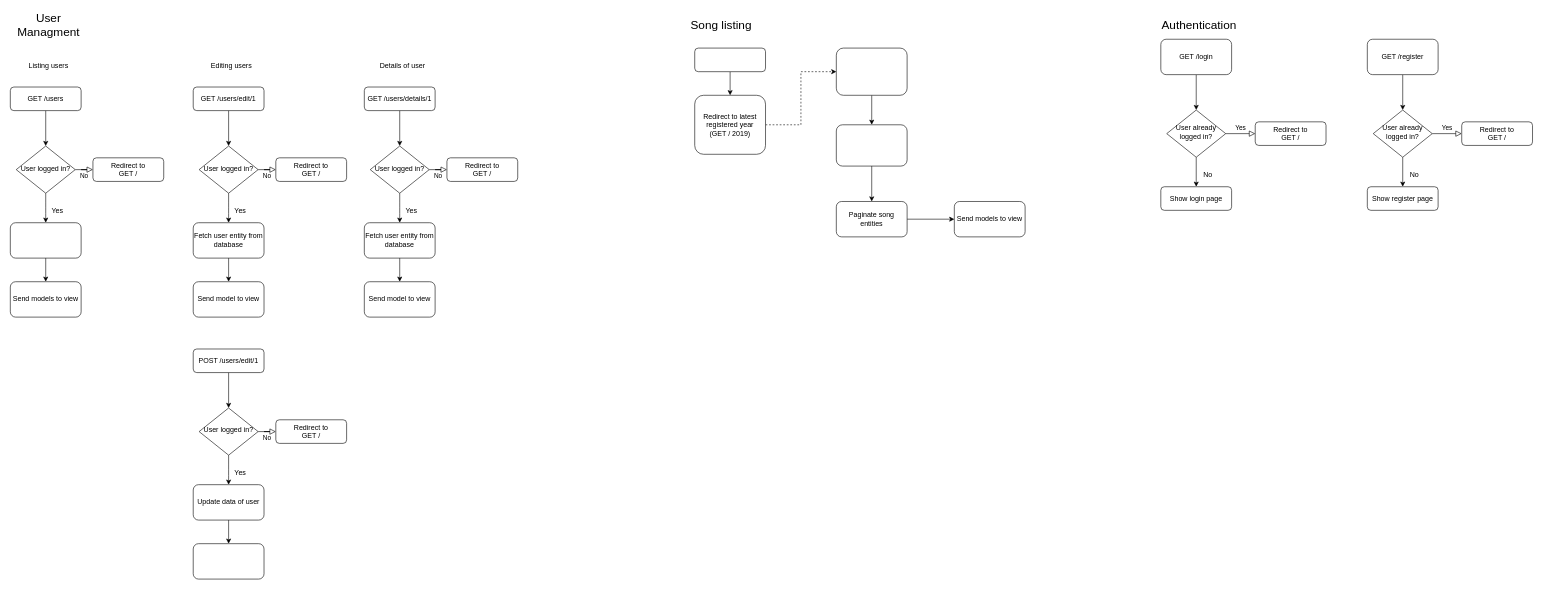
The diagram is 1543 pixels wide and 589 high, and some of its shapes have lost their labels. The shapes that lost their labels are listed below. From the top down, each one's centre as x and y in pixels, then its label:
At [730,59]: "GET /".
At [871,71]: "Song List GET /2019".
At [871,145]: "Fetch all song entities with ranks and artists from database".
At [45,240]: "Fetch all user entities from database".
At [228,561]: "Redirect to GET /users".
